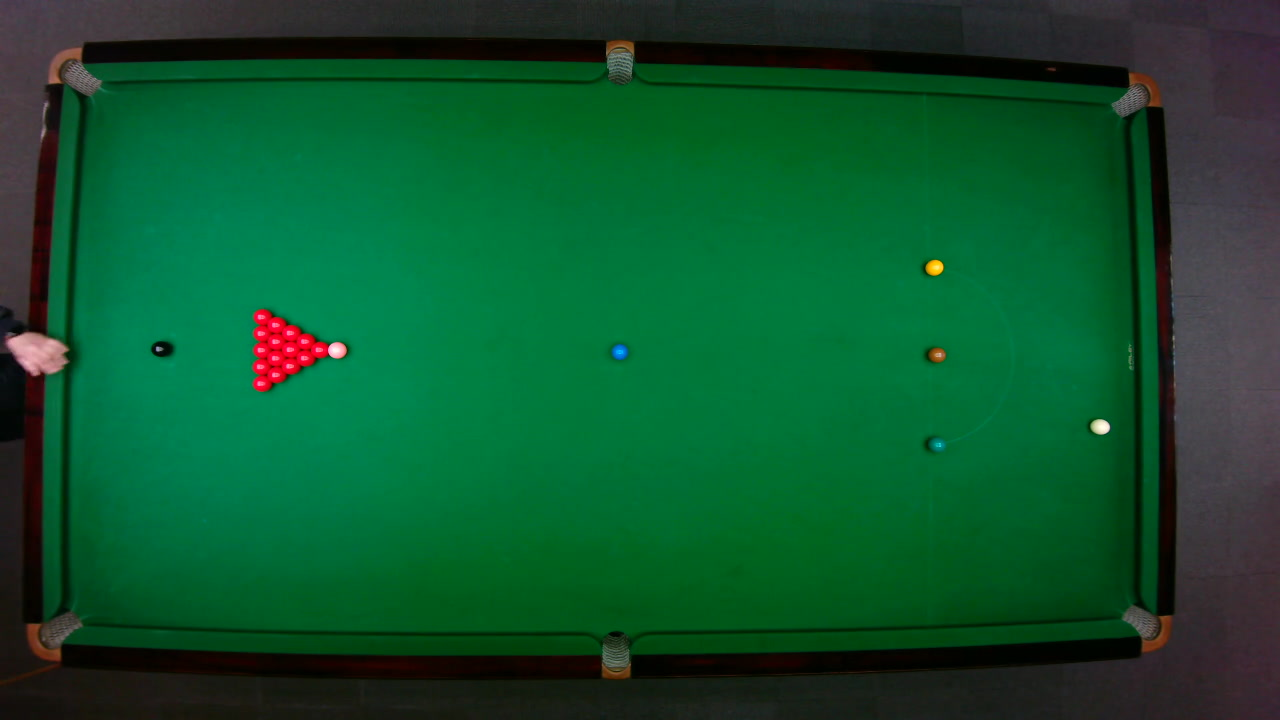bag: (25, 609, 83, 661), (45, 46, 102, 96), (1119, 603, 1172, 652), (1108, 71, 1162, 118), (600, 629, 630, 680), (605, 38, 633, 85)
black: (149, 339, 171, 357)
blue: (610, 342, 628, 360)
brown: (926, 346, 946, 362)
green: (926, 434, 946, 452)
pink: (327, 341, 348, 360)
red: (251, 308, 273, 326), (281, 324, 303, 342), (296, 333, 318, 351), (267, 366, 288, 384), (281, 358, 301, 376), (266, 333, 286, 351), (251, 375, 272, 392), (266, 316, 287, 333), (251, 358, 272, 375), (296, 351, 317, 368), (251, 326, 273, 342), (311, 341, 330, 359), (251, 342, 272, 358), (266, 351, 287, 367), (281, 342, 301, 358)
white: (1088, 417, 1111, 435)
yellow: (923, 258, 944, 276)
zone: (926, 265, 1013, 444)
